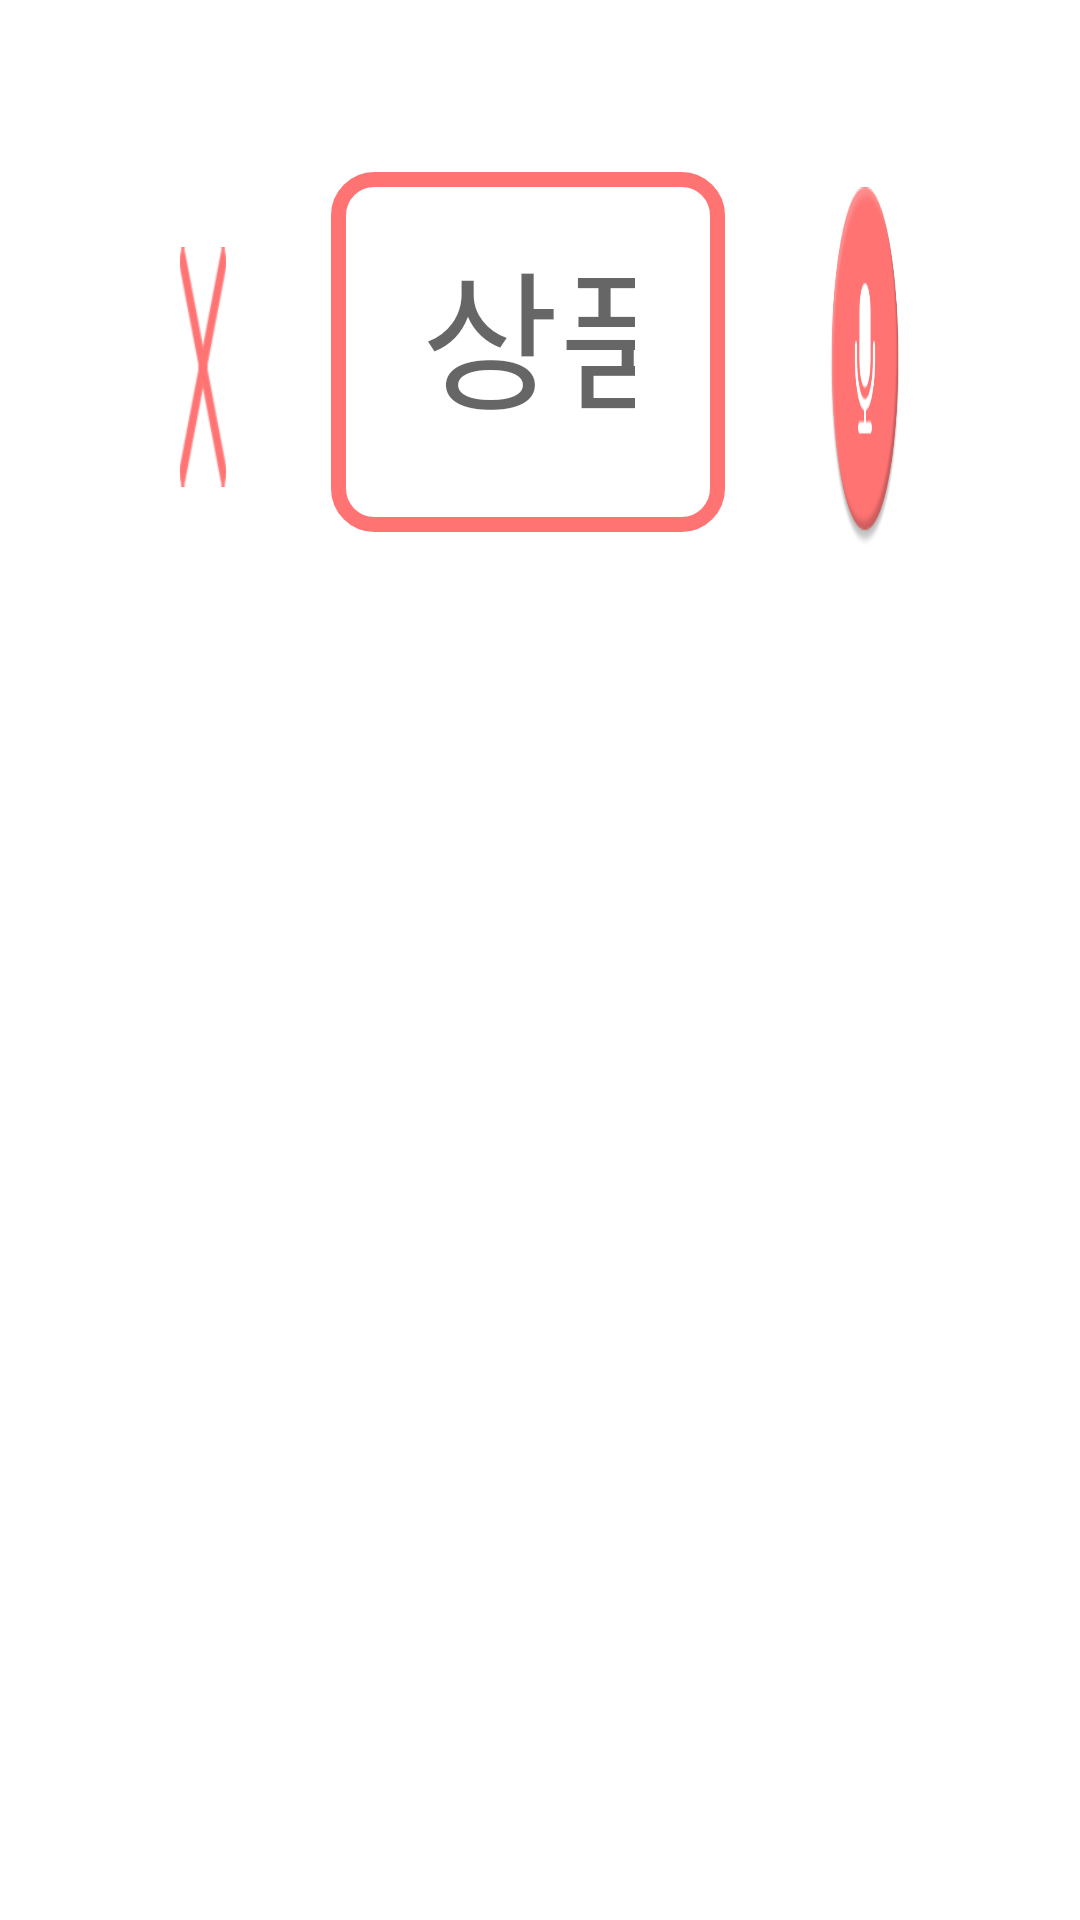

Where to tap for icons on this 1080 x 1920 app screen, as (x=x, y=y):
뒤로가기 버튼 입니다: (x=203, y=367)
음성인식으로 이동하는 버튼입니다: (x=865, y=363)
